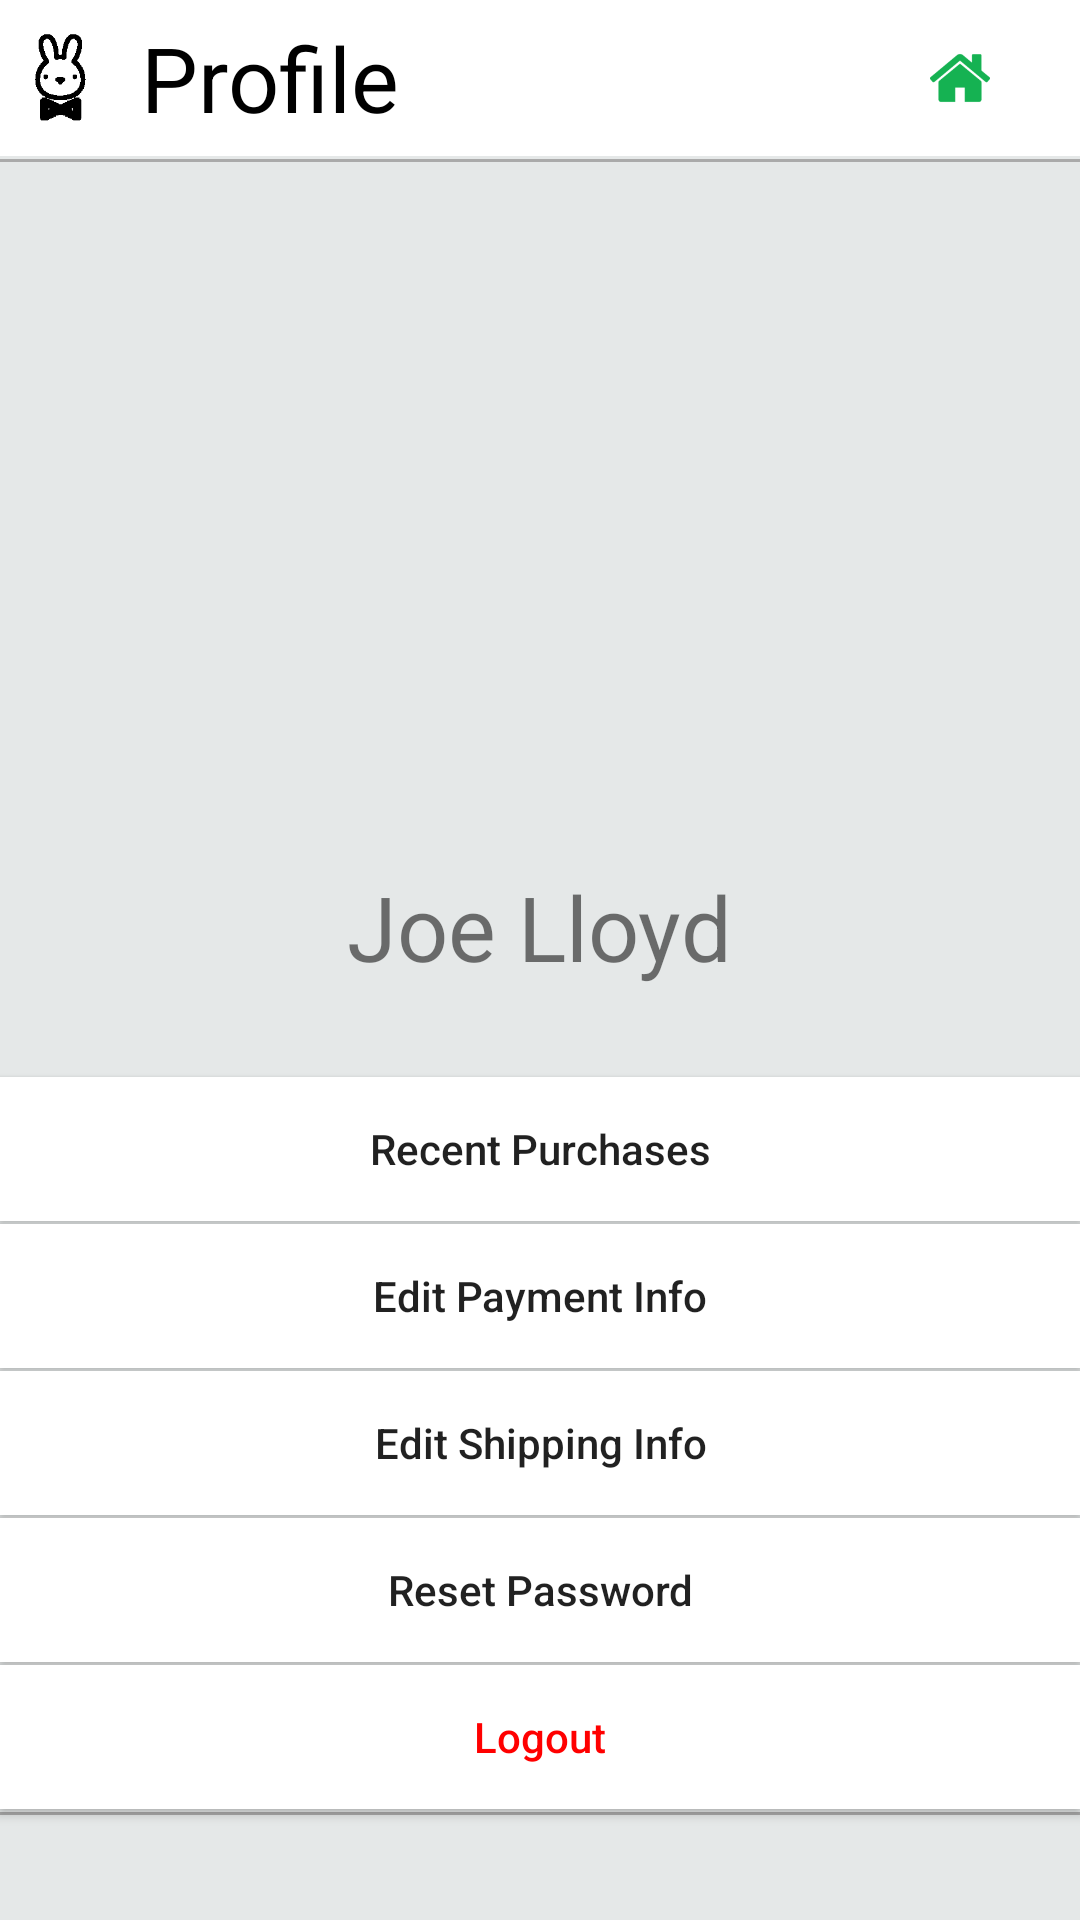

Locate icon controls on the screen. Image size 1080px×1920px, boxes as box(x1, y1, x2, y2).
home: box(930, 54, 990, 102)
